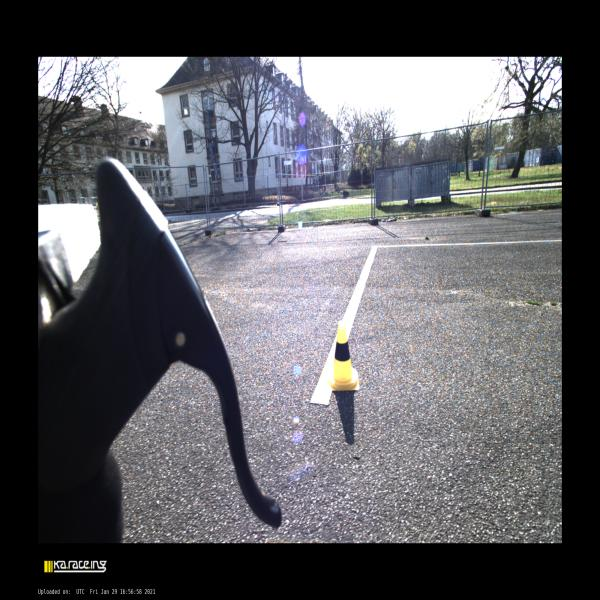yellow_cone: (328, 320, 360, 391)
